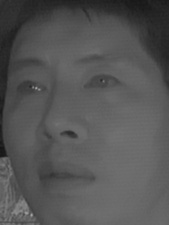eye: (82, 71, 125, 97), (13, 76, 49, 98)
mouth: (31, 155, 97, 197)
